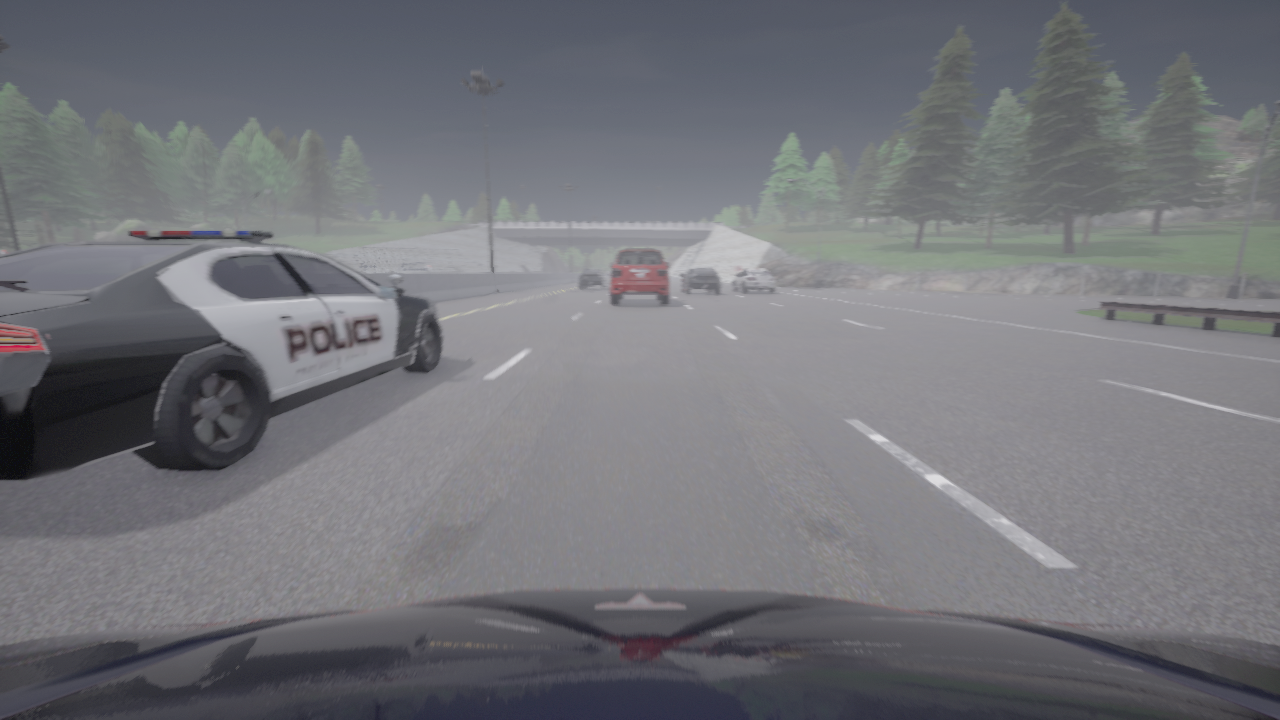cyclist: (0, 588, 1279, 719), (0, 230, 442, 481), (610, 249, 668, 305), (680, 267, 719, 294), (732, 269, 774, 293), (579, 269, 608, 289)
